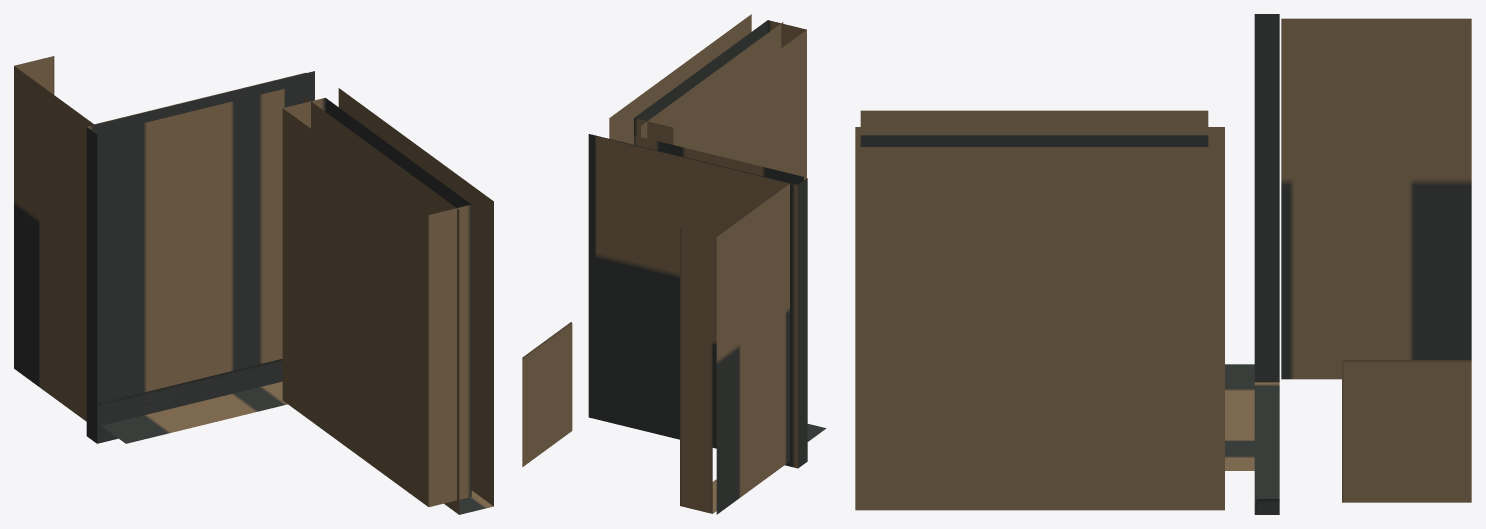
File: section-5.obj
3 views of the same model, side by side, from view 1: azimuth 30°, elevation 25°; view 2: azimuth 150°, elevation 25°; view 3: azimuth 270°, elevation 25° (orthographic). The views are drawn at different scales.
Size of the model in its own units: 0.5615 by 0.725 by 1.1.
